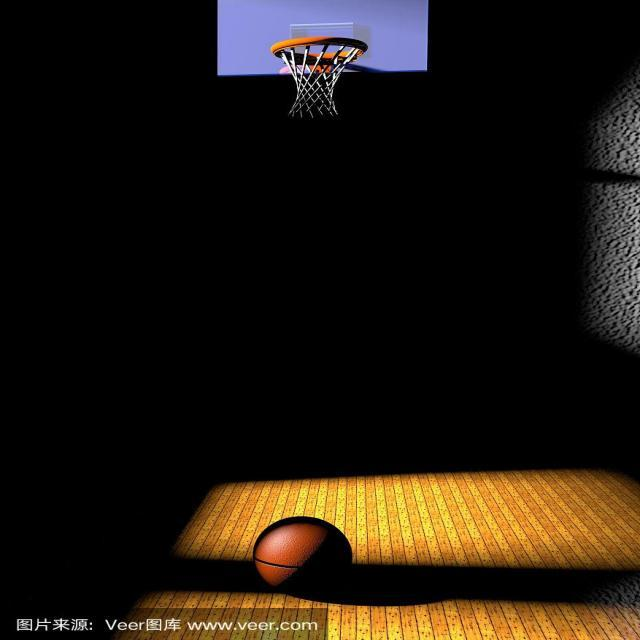rim: (254, 516, 356, 592)
